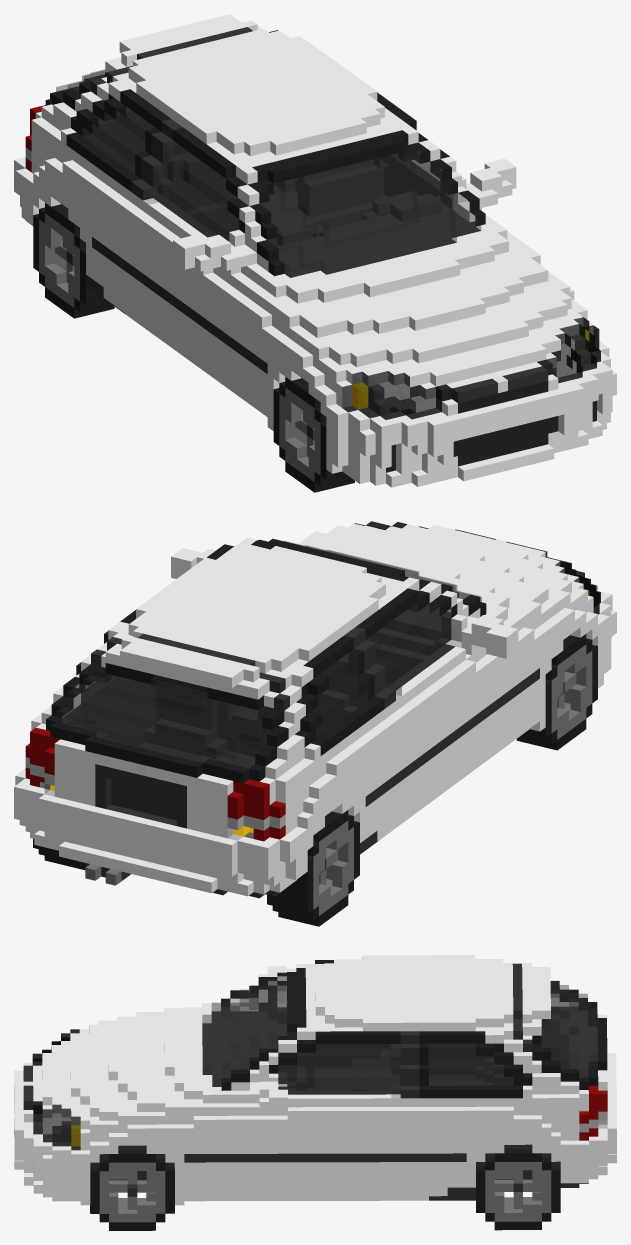
File: honda_civic_hatchback_2000_voxel.glb
3 views of the same model, one above another, from view 1: azimuth 30°, elevation 25°; view 2: azimuth 150°, elevation 25°; view 3: azimuth 270°, elevation 25° (orthographic). The views are drawn at different scales.
Parts seen in each view (by area): view 1: Object_4, Object_5, Object_6, Object_3, Wheel_Group, Object_8, Object_7, Object_9, Object_11; view 2: Object_4, Object_5, Object_6, Object_3, Wheel_Group, Object_13, Object_10, Object_8, Object_9; view 3: Object_4, Object_5, Object_6, Wheel_Group, Object_3, Object_8, Object_13, Object_9.
Boxes of the visible parts, x1,y1,x2,y2 form: Object_4: (14,14,616,487); Object_5: (61,27,548,402); Object_6: (56,69,480,277); Object_3: (45,72,485,276); Wheel_Group: (33,203,354,492); Object_8: (342,317,600,419); Object_7: (386,359,596,472); Object_9: (343,334,600,419); Object_11: (379,338,576,412); Object_4: (14,523,616,896); Object_5: (62,529,570,898); Object_6: (40,541,481,840); Object_3: (46,538,486,783); Wheel_Group: (33,634,597,926); Object_13: (25,727,285,841); Object_10: (25,757,285,830); Object_8: (355,521,600,614); Object_9: (40,613,598,885); Object_4: (14,955,616,1205); Object_5: (23,963,597,1200); Object_6: (202,976,607,1128); Wheel_Group: (90,1149,560,1230); Object_3: (221,960,607,1098); Object_8: (32,1029,80,1150); Object_13: (579,1086,607,1140); Object_9: (33,1114,80,1149).
Size of the model in its own units: 2.15 by 1.43 by 4.16.
